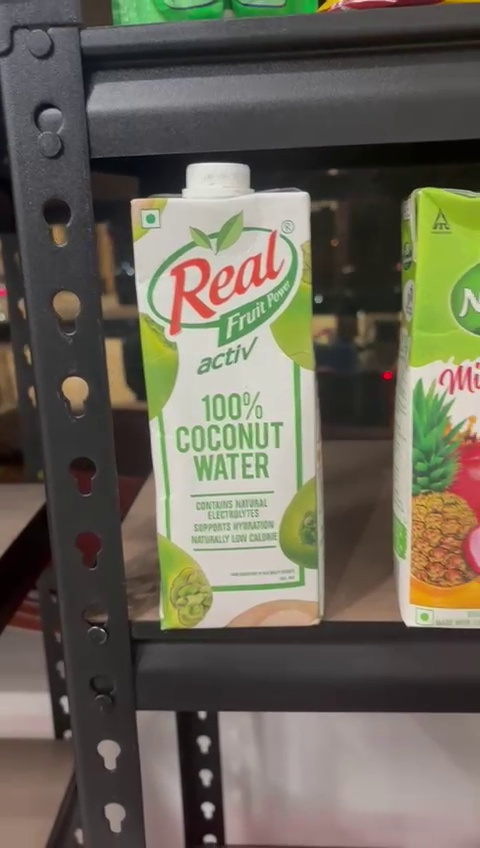Coconut water: (130, 160, 326, 630)
